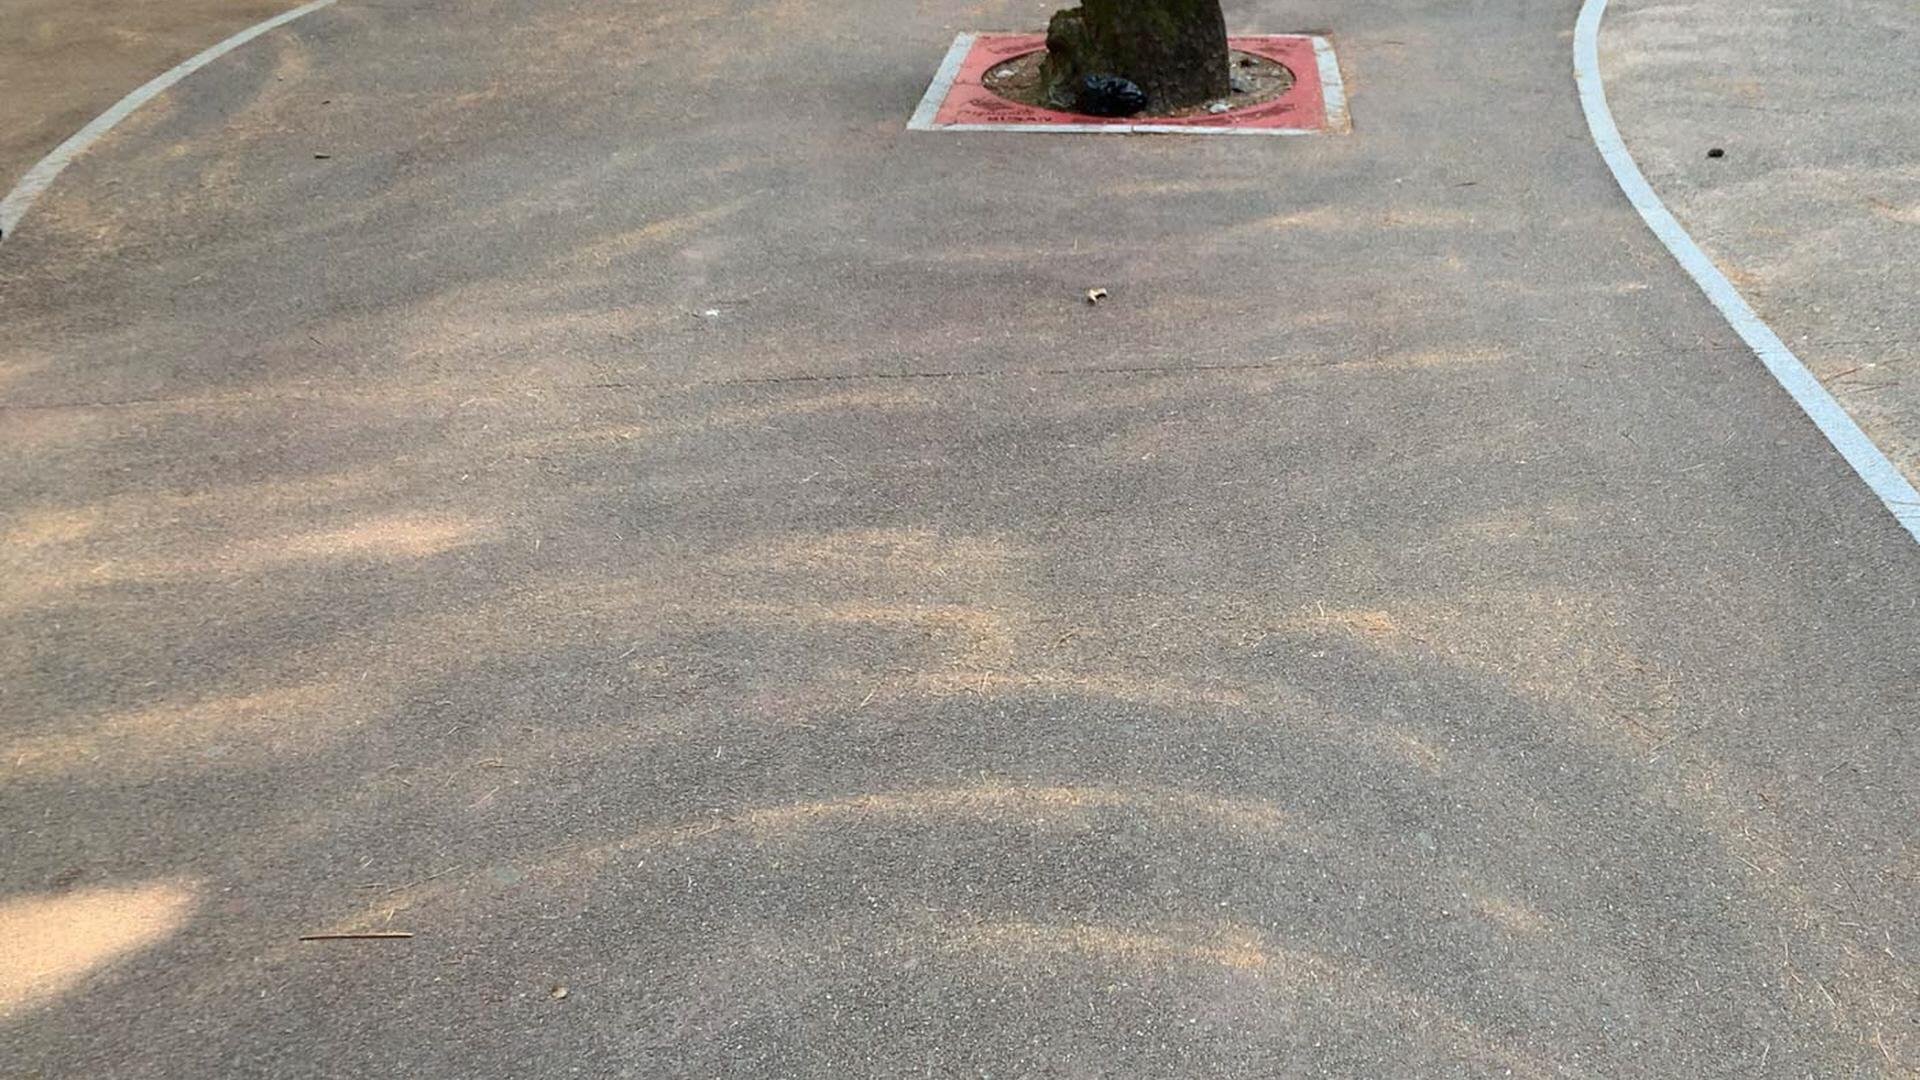black_bag: (1069, 69, 1149, 119)
